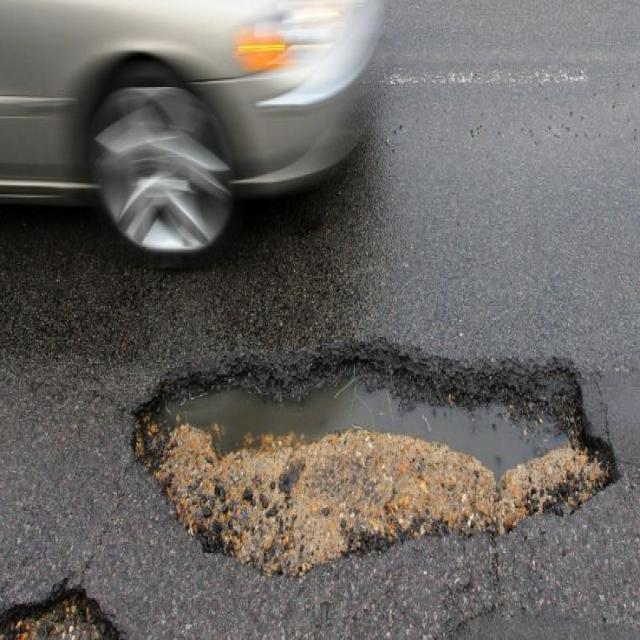pothole: (123, 344, 624, 576)
